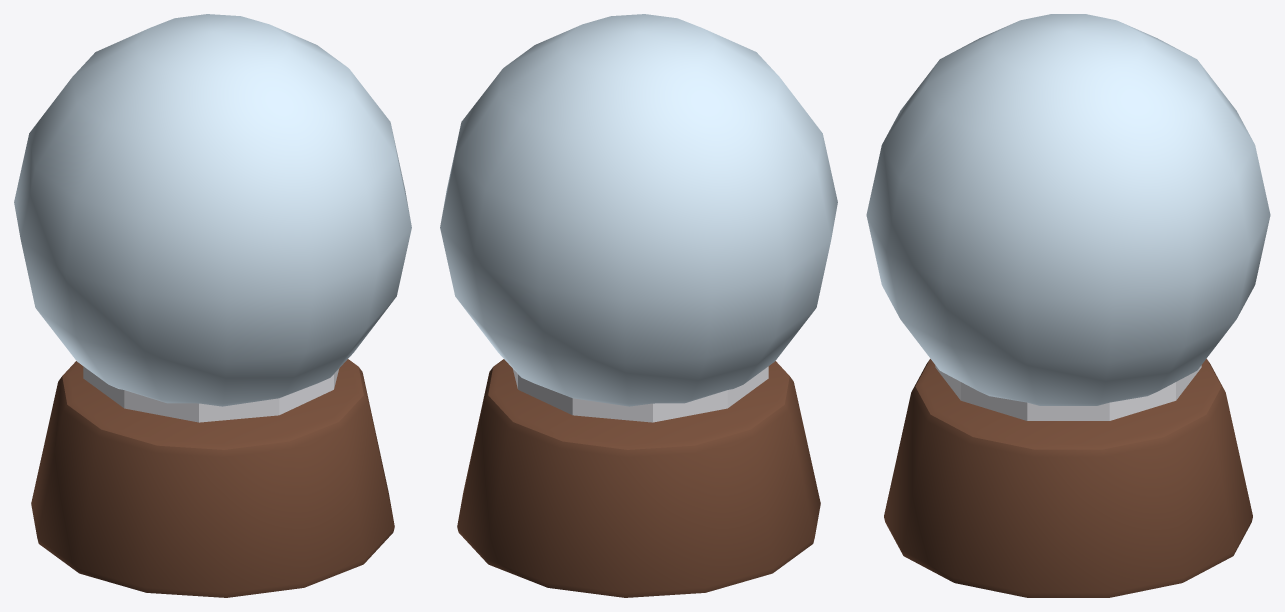
File: RailIce.fbx
3 views of the same model, side by side, from view 1: azimuth 30°, elevation 25°; view 2: azimuth 150°, elevation 25°; view 3: azimuth 270°, elevation 25° (orthographic).
Parts seen in each view (by area): view 1: RailIce; view 2: RailIce; view 3: RailIce.
Boxes of the visible parts, x1,y1,x2,y2 form: RailIce: (14,14,411,597); RailIce: (440,14,837,597); RailIce: (866,14,1270,597).
Bounding box in the file's own units: 127 × 175 × 130.
